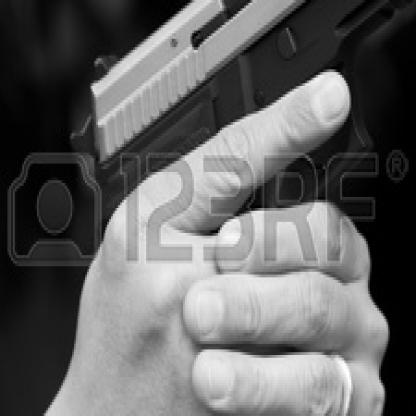gun: (81, 0, 414, 413)
